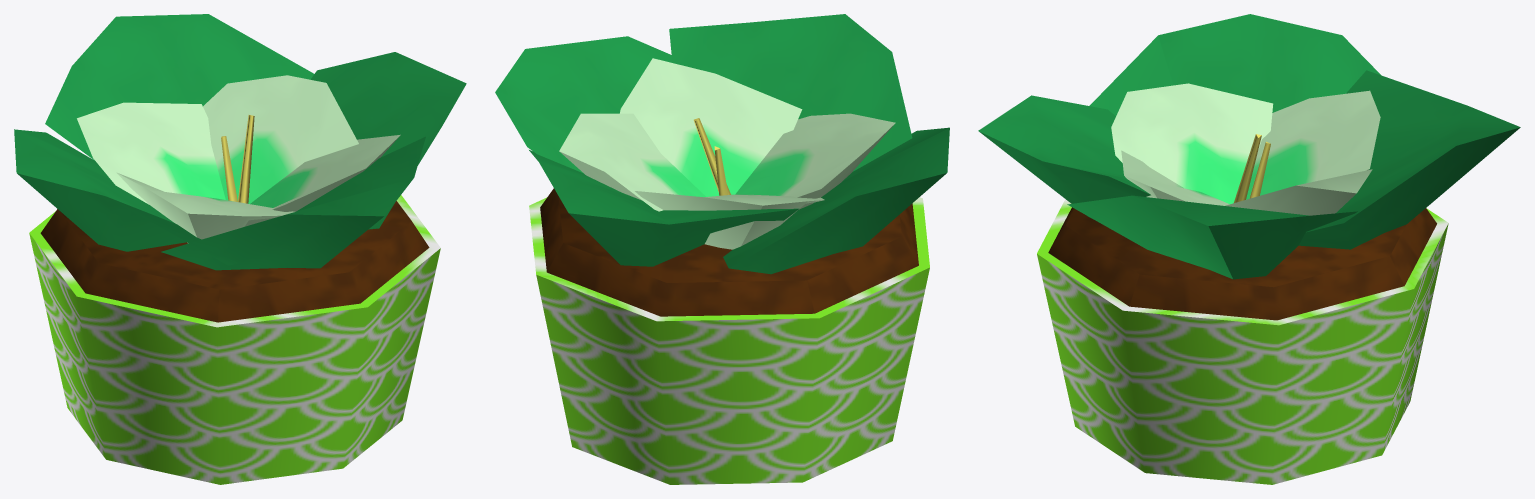
Rendered from Cupcake_B_16.FBX.
3 views of the same model, side by side, from view 1: azimuth 30°, elevation 25°; view 2: azimuth 150°, elevation 25°; view 3: azimuth 270°, elevation 25° (orthographic). The views are drawn at different scales.
Parts seen in each view (by area): view 1: Cupcake_B; view 2: Cupcake_B; view 3: Cupcake_B.
Part boxes in pixels (left/top/right/bottom): Cupcake_B: left=14, top=14, right=466, bottom=484; Cupcake_B: left=495, top=14, right=949, bottom=484; Cupcake_B: left=978, top=14, right=1520, bottom=484.
Bounding box in the file's own units: 38.73 × 26.15 × 41.87.
